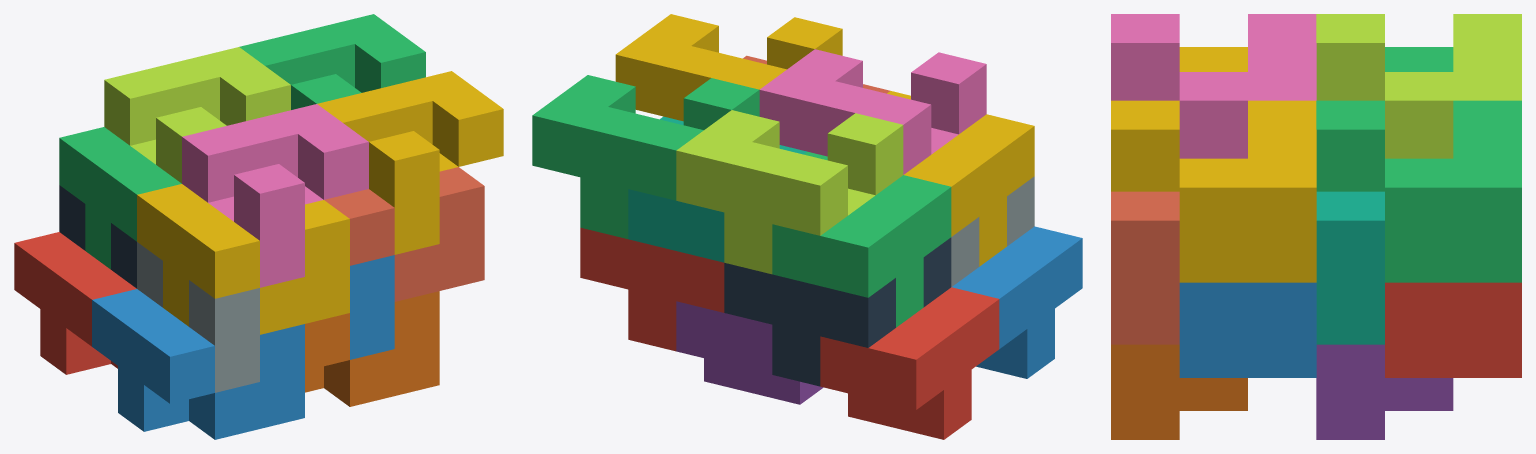
Rendered from tiling.obj.
3 views of the same model, side by side, from view 1: azimuth 30°, elevation 25°; view 2: azimuth 150°, elevation 25°; view 3: azimuth 270°, elevation 25° (orthographic). The views are drawn at different scales.
Visible parts, largest first — view 1: copy_2_domain_4, copy_1_domain_2, copy_1_domain_4, copy_2_domain_8, copy_2_domain_3, copy_1_domain_8, copy_2_domain_7, copy_1_domain_6, copy_1_domain_1, copy_1_domain_3, copy_2_domain_2, copy_2_domain_6 (+1 smaller); view 2: copy_2_domain_3, copy_2_domain_7, copy_1_domain_1, copy_2_domain_4, copy_1_domain_3, copy_2_domain_1, copy_2_domain_8, copy_1_domain_2, copy_2_domain_5, copy_1_domain_4, copy_1_domain_5, copy_1_domain_7 (+1 smaller); view 3: copy_2_domain_8, copy_2_domain_7, copy_2_domain_3, copy_2_domain_4, copy_2_domain_6, copy_2_domain_5, copy_1_domain_8, copy_1_domain_7, copy_1_domain_5, copy_1_domain_6, copy_1_domain_3, copy_1_domain_4.
Part boxes in pixels (x1=…): copy_2_domain_4: x1=182, y1=104, x2=368, y2=287; copy_1_domain_2: x1=92, y1=289, x2=304, y2=439; copy_1_domain_4: x1=137, y1=184, x2=349, y2=334; copy_2_domain_8: x1=317, y1=71, x2=503, y2=254; copy_2_domain_3: x1=104, y1=47, x2=290, y2=183; copy_1_domain_8: x1=324, y1=167, x2=484, y2=301; copy_2_domain_7: x1=239, y1=14, x2=425, y2=109; copy_1_domain_6: x1=305, y1=291, x2=439, y2=406; copy_1_domain_1: x1=14, y1=232, x2=136, y2=374; copy_1_domain_3: x1=59, y1=127, x2=181, y2=269; copy_2_domain_2: x1=137, y1=242, x2=259, y2=392; copy_2_domain_6: x1=350, y1=255, x2=394, y2=359; copy_2_domain_3: x1=676, y1=110, x2=903, y2=274; copy_2_domain_7: x1=532, y1=75, x2=759, y2=238; copy_1_domain_1: x1=820, y1=287, x2=999, y2=439; copy_2_domain_4: x1=759, y1=49, x2=986, y2=174; copy_1_domain_3: x1=772, y1=151, x2=951, y2=327; copy_2_domain_1: x1=724, y1=237, x2=951, y2=386; copy_2_domain_8: x1=615, y1=14, x2=842, y2=121; copy_1_domain_2: x1=952, y1=226, x2=1082, y2=378; copy_2_domain_5: x1=580, y1=227, x2=724, y2=351; copy_1_domain_4: x1=887, y1=91, x2=1034, y2=266; copy_1_domain_5: x1=676, y1=301, x2=823, y2=404; copy_1_domain_7: x1=628, y1=116, x2=806, y2=262; copy_2_domain_8: x1=1111, y1=100, x2=1316, y2=282; copy_2_domain_7: x1=1316, y1=100, x2=1521, y2=282; copy_2_domain_3: x1=1316, y1=14, x2=1521, y2=158; copy_2_domain_4: x1=1111, y1=14, x2=1316, y2=158; copy_2_domain_6: x1=1179, y1=282, x2=1316, y2=377; copy_2_domain_5: x1=1385, y1=282, x2=1521, y2=377; copy_1_domain_8: x1=1111, y1=191, x2=1179, y2=344; copy_1_domain_7: x1=1316, y1=191, x2=1384, y2=344; copy_1_domain_5: x1=1316, y1=344, x2=1453, y2=439; copy_1_domain_6: x1=1111, y1=344, x2=1247, y2=439; copy_1_domain_3: x1=1385, y1=47, x2=1453, y2=71; copy_1_domain_4: x1=1179, y1=47, x2=1247, y2=71.
Size of the model in its own units: 8 by 5 by 6.
